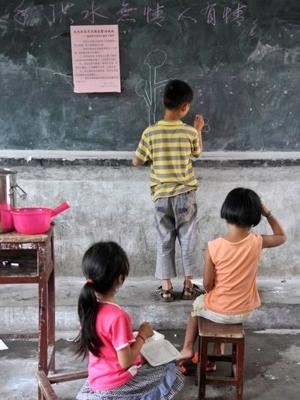person: (132, 79, 204, 301)
